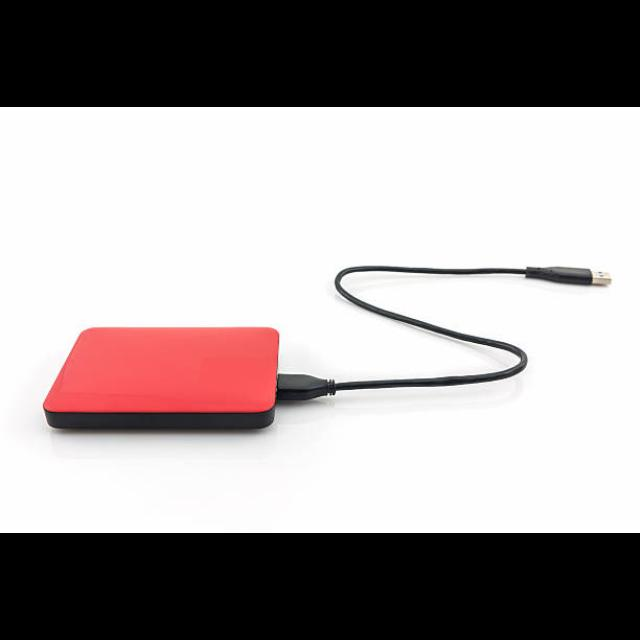HDD: (42, 327, 281, 432)
